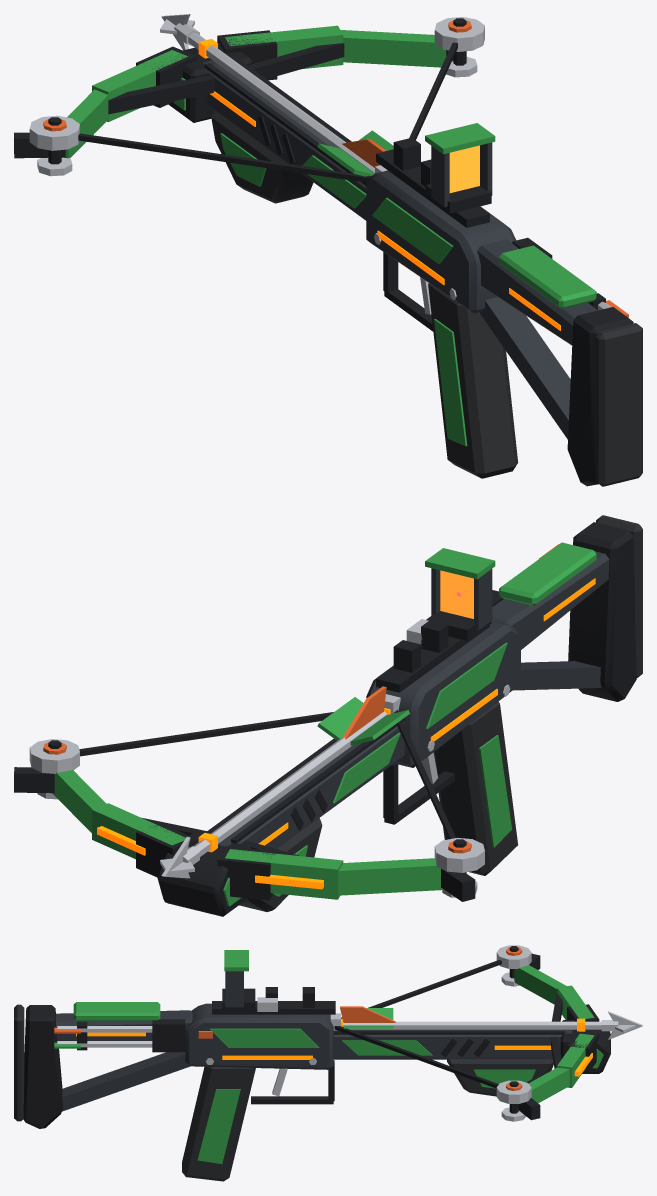
Rendered from Crossbow.glb.
3 views of the same model, one above another, from view 1: azimuth 30°, elevation 25°; view 2: azimuth 150°, elevation 25°; view 3: azimuth 270°, elevation 25° (orthographic). The views are drawn at different scales.
Visible parts, largest first — view 1: Grip, Receiver, ButtPad, Butt, StockStrut, Rail, StockSpine, LimbOuter1, CheekRest, Foregrip, Shaft, String-1 (+25 smaller); view 2: Butt, Receiver, Grip, Rail, StockSpine, LimbOuter-1, Riser, CheekRest, LimbInner-1, Shaft, GripInlay, StockStrut (+29 smaller); view 3: Receiver, Rail, Butt, Grip, StockStrut, Shaft, GripInlay, SidePlate, Foregrip, CheekRest, StockSpine, ButtPad (+24 smaller).
Part boxes in pixels (x1,y1,x2,y2): Grip: (428, 283, 518, 478); Receiver: (366, 170, 516, 313); ButtPad: (596, 323, 642, 486); Butt: (567, 307, 633, 486); StockStrut: (480, 297, 570, 439); Rail: (202, 60, 366, 220); StockSpine: (477, 239, 597, 345); LimbOuter1: (340, 30, 446, 67); CheekRest: (499, 245, 596, 308); Foregrip: (211, 110, 313, 203); Shaft: (188, 32, 374, 173); String-1: (78, 133, 371, 182); Butt: (568, 522, 636, 701); Receiver: (366, 620, 520, 767); Grip: (433, 701, 517, 875); Rail: (218, 722, 404, 848); StockSpine: (492, 551, 609, 649); LimbOuter-1: (338, 858, 443, 895); Riser: (157, 832, 250, 916); CheekRest: (499, 542, 596, 605); LimbInner-1: (225, 849, 343, 899); Shaft: (193, 711, 387, 856); GripInlay: (479, 735, 511, 847); StockStrut: (513, 661, 601, 690); Receiver: (185, 1003, 333, 1069); Rail: (333, 1029, 572, 1059); Butt: (23, 1005, 63, 1128); Grip: (182, 1066, 255, 1181); StockStrut: (62, 1052, 189, 1111); Shaft: (343, 1021, 601, 1029); GripInlay: (197, 1089, 240, 1163); SidePlate: (210, 1028, 319, 1047); Foregrip: (447, 1059, 553, 1096); CheekRest: (73, 1002, 160, 1020); StockSpine: (56, 1010, 192, 1040); ButtPad: (14, 1004, 24, 1121).
Bounding box in the file's own units: 1.76 × 1.16 × 3.05.
